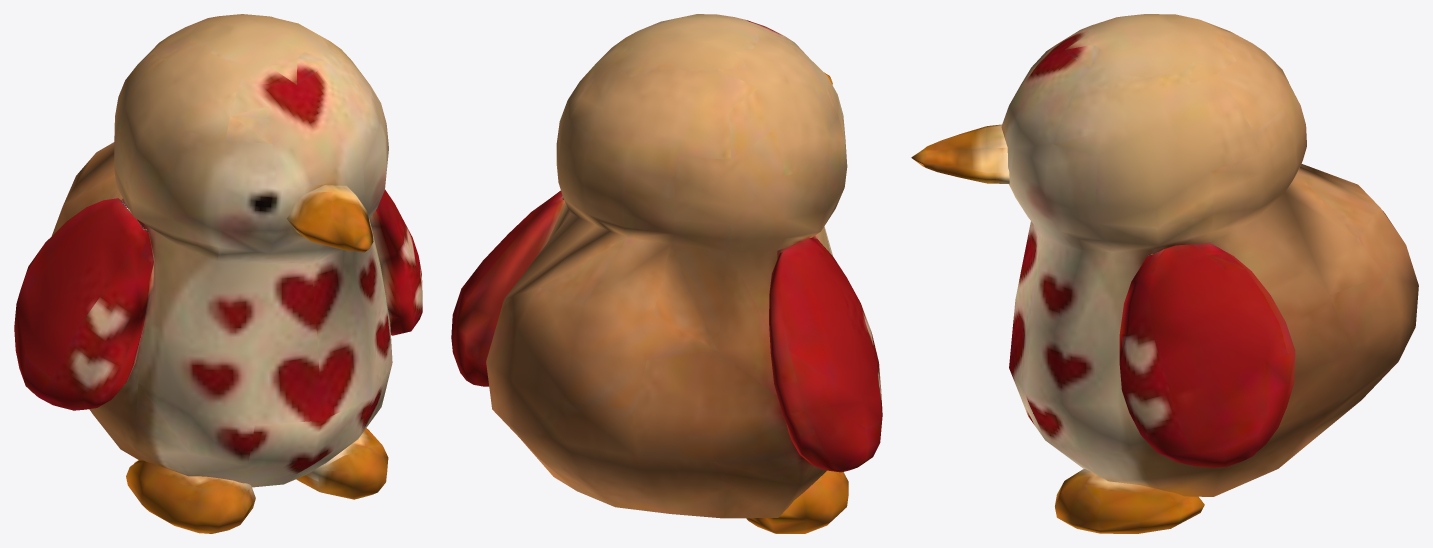
Rendered from penguin-01-21-heart-dot.gltf.
3 renders of one model, left to right at view 1: azimuth 30°, elevation 25°; view 2: azimuth 150°, elevation 25°; view 3: azimuth 270°, elevation 25°, orthographic. The views are drawn at different scales.
Parts seen in each view (by area): view 1: penguin-01-21-heart-dot; view 2: penguin-01-21-heart-dot; view 3: penguin-01-21-heart-dot.
Boxes of the visible parts, box(x1,y1,x2,y2) form: penguin-01-21-heart-dot: box(14, 14, 422, 533); penguin-01-21-heart-dot: box(451, 14, 882, 533); penguin-01-21-heart-dot: box(911, 14, 1418, 533).
Bounding box in the file's own units: 0.2 × 0.2251 × 0.2255.
1 material, 1 textured.
